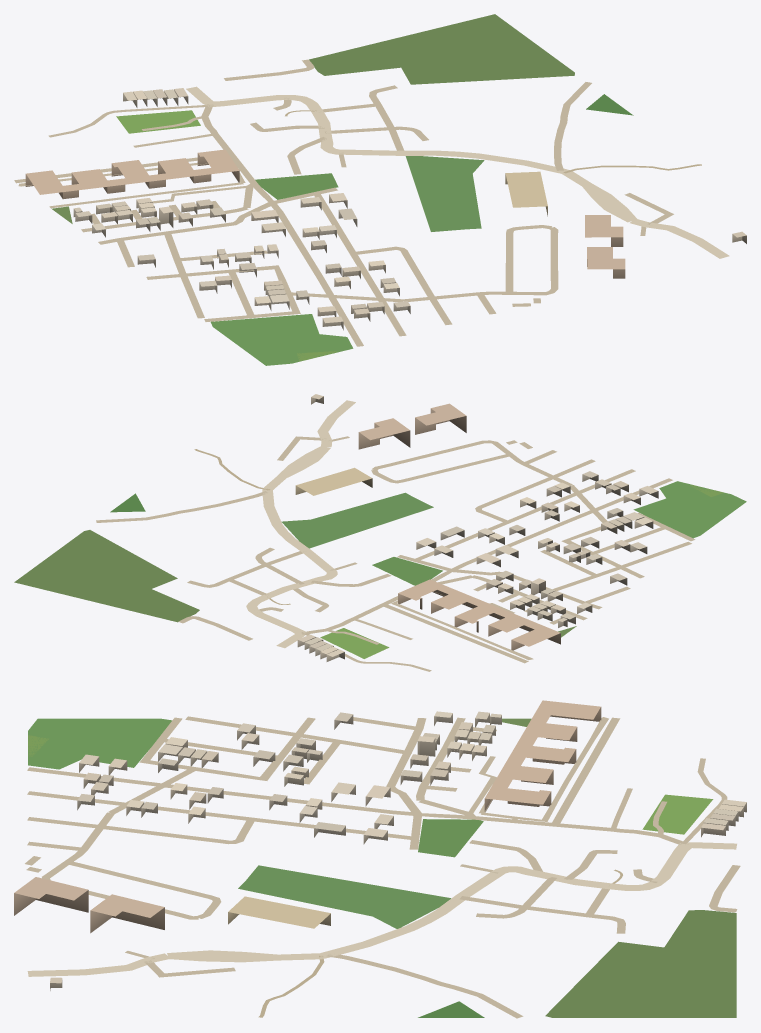
3 views of the same model, one above another, from view 1: azimuth 30°, elevation 25°; view 2: azimuth 150°, elevation 25°; view 3: azimuth 270°, elevation 25° (orthographic). The views are drawn at different scales.
Visible parts, largest first — view 1: ground, building; view 2: ground, building; view 3: ground, building.
Boxes of the visible parts, bbox=[...] form: ground: bbox=[14, 14, 729, 365]; building: bbox=[25, 88, 746, 330]; ground: bbox=[14, 400, 746, 671]; building: bbox=[295, 394, 658, 661]; ground: bbox=[25, 716, 740, 1018]; building: bbox=[14, 700, 746, 990].
Size of the model in its own units: 508 by 18 by 517.
